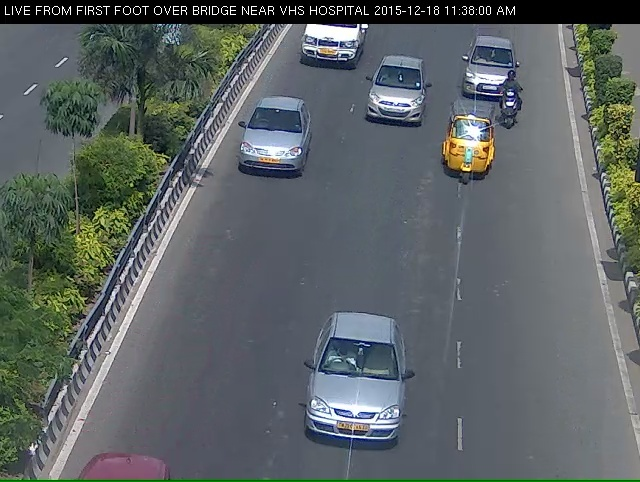Auto: (440, 109, 496, 198)
Car: (299, 326, 411, 481), (232, 106, 313, 199), (359, 59, 434, 146), (290, 19, 371, 75), (456, 36, 517, 108)
Person: (501, 77, 535, 130)
